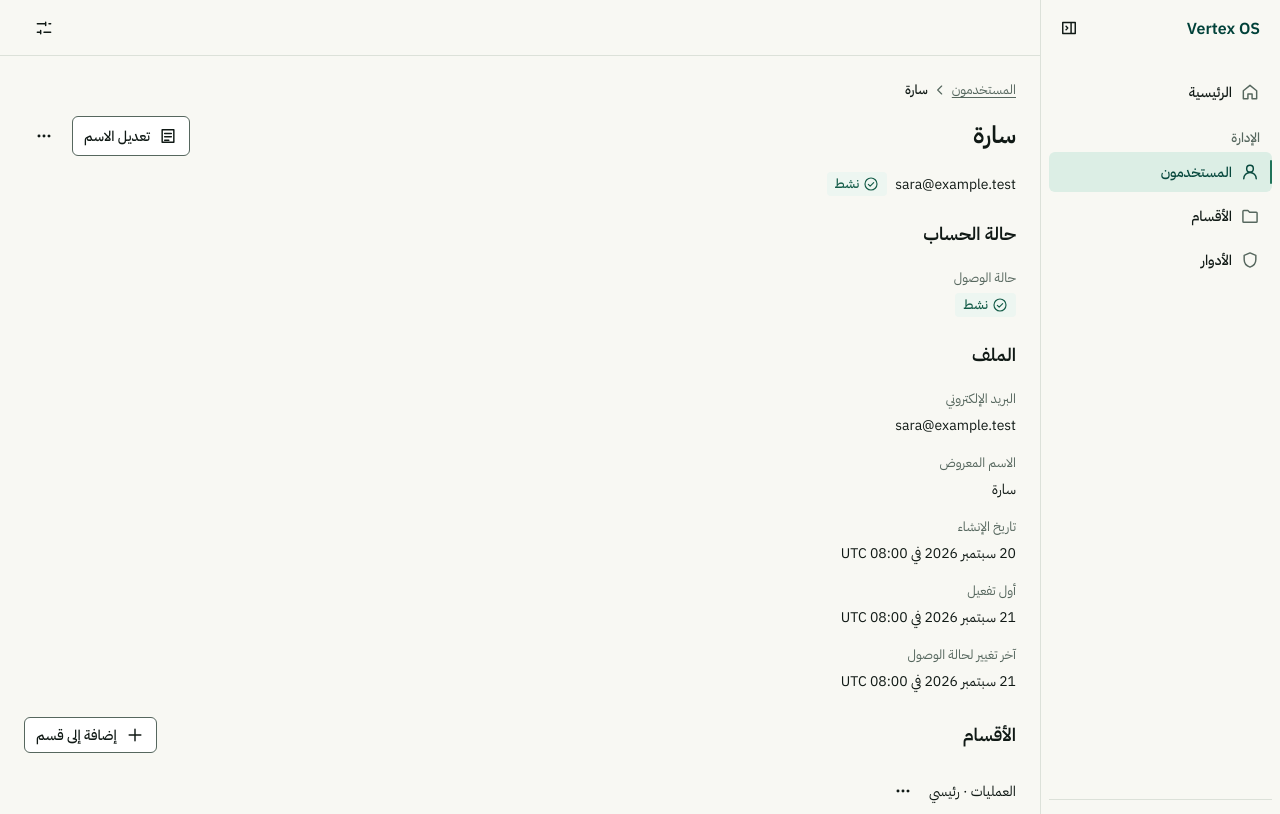
Test case: the user detail › confirms a suspension naming the target and consequence, sends the reason and reports the result
Click the button named "إجراءات المستخدم": click(44, 136) [24,116,64,156]
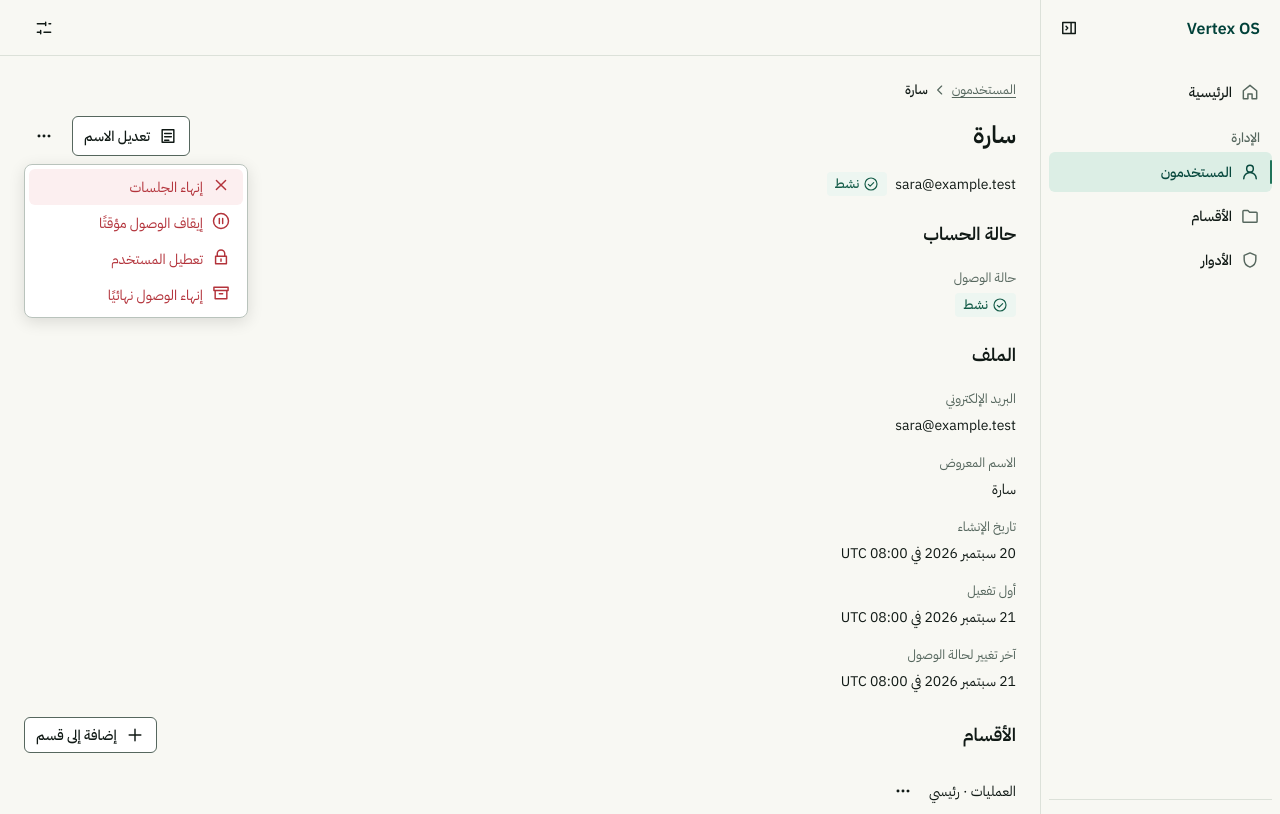
Click the menu item "إيقاف الوصول مؤقتًا": click(165, 222) [99,211,231,232]
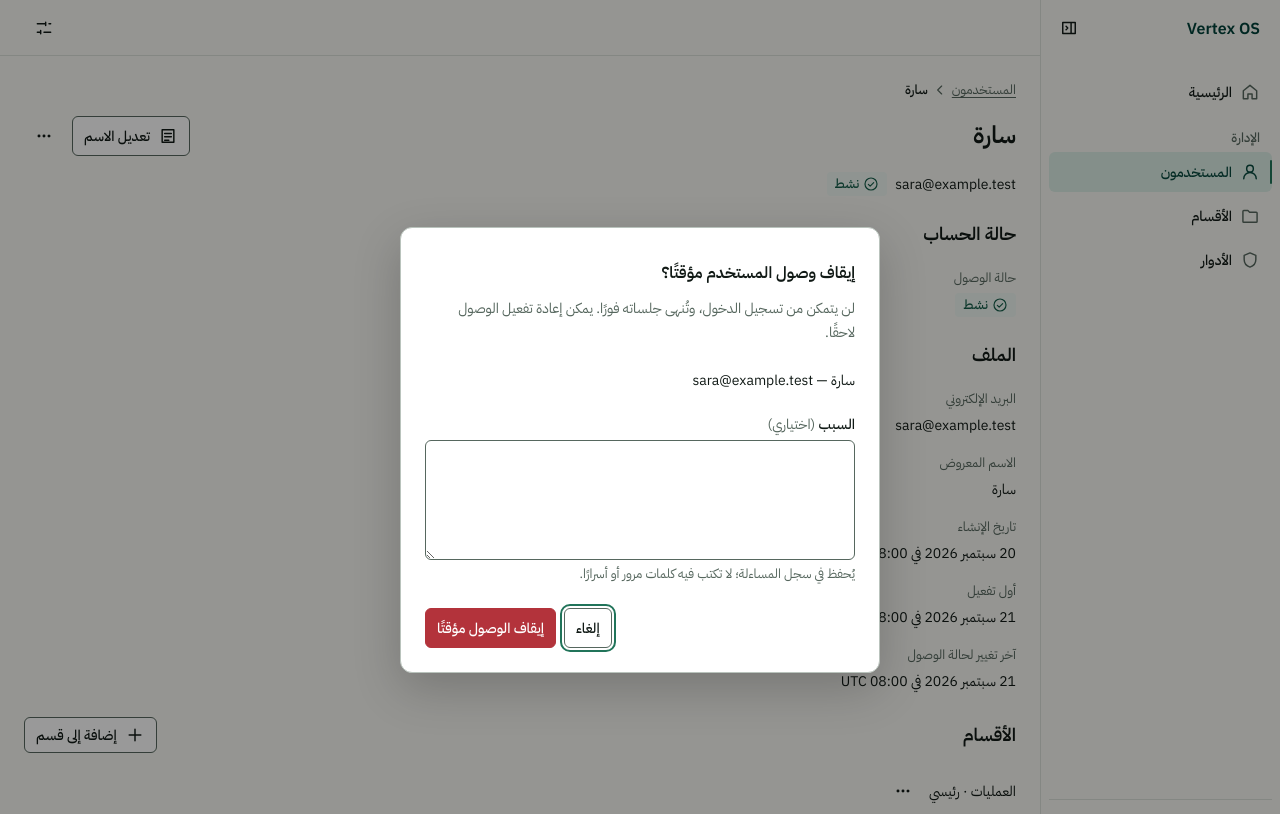
Now the heading "إيقاف وصول المستخدم مؤقتًا؟" is shown, box [662,262,855,282]
Now the dialog shows "سارة", box [831,371,855,389]
Now the dialog shows "sara@example.test", box [692,371,813,389]
In the text box labelled "السبب (اختياري)": (640, 500) [425,440,855,560], type "  إجازة  "
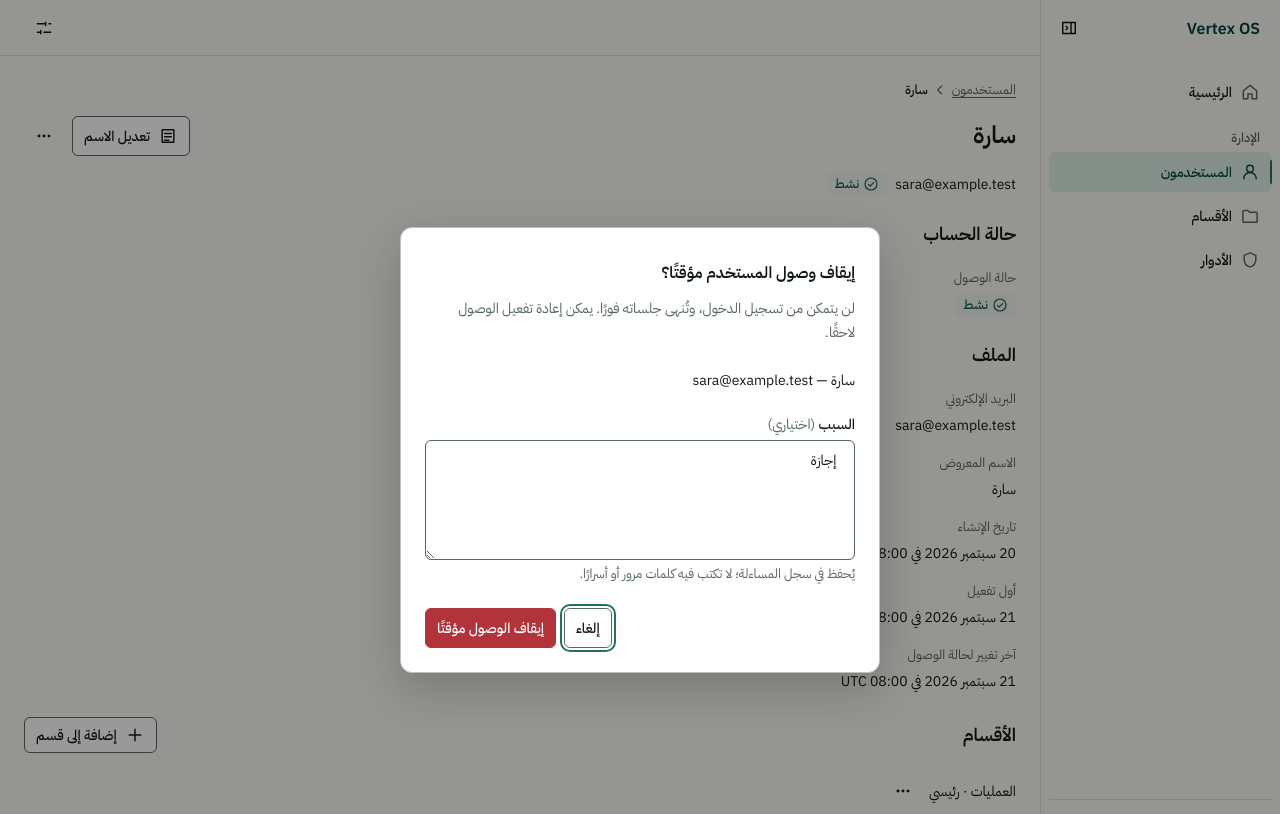
Click the button "إيقاف الوصول مؤقتًا": click(490, 628) [425,608,556,648]
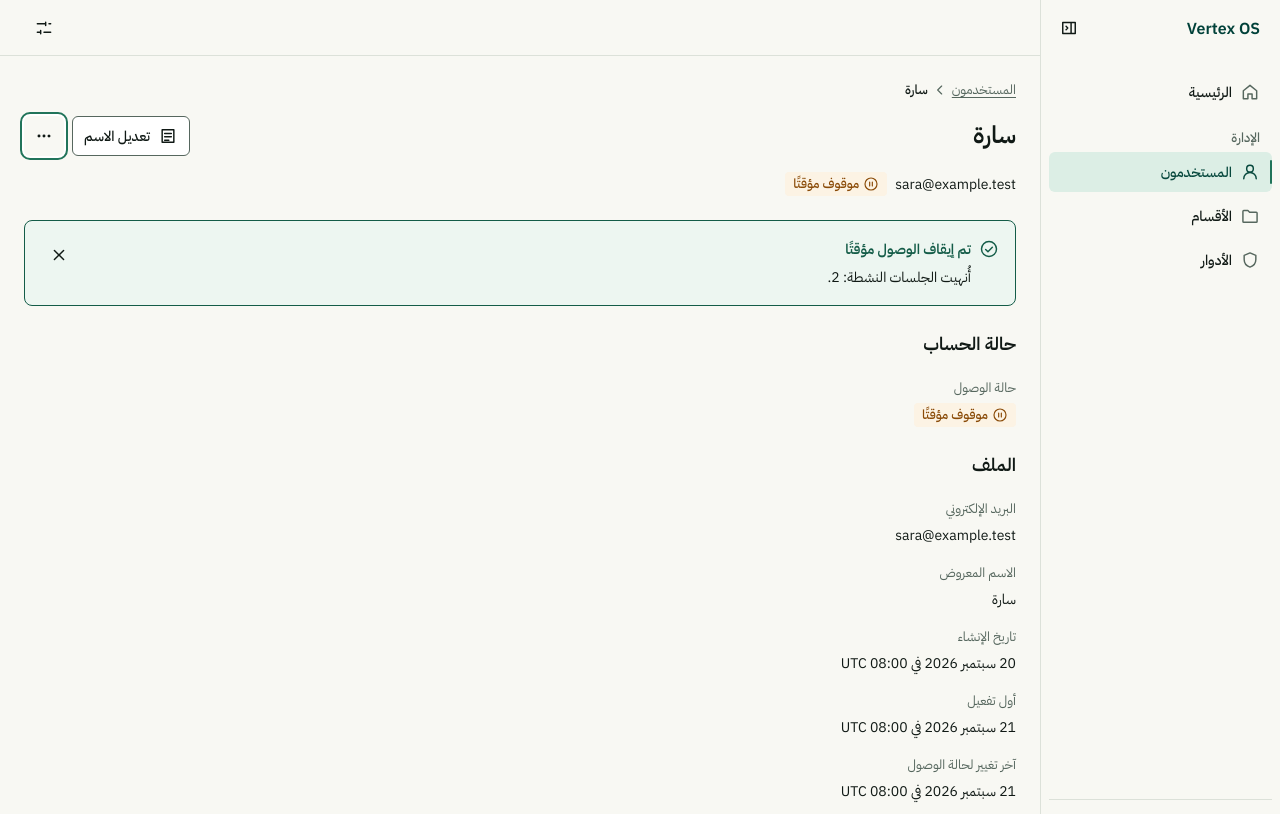
Now the text "تم إيقاف الوصول مؤقتًا" is shown, box [845,240,971,258]
Now the text "أُنهيت الجلسات النشطة: 2." is shown, box [828,268,971,286]
Now the element "حالة الحساب" shows "موقوف مؤقتًا", box [922,406,988,423]
